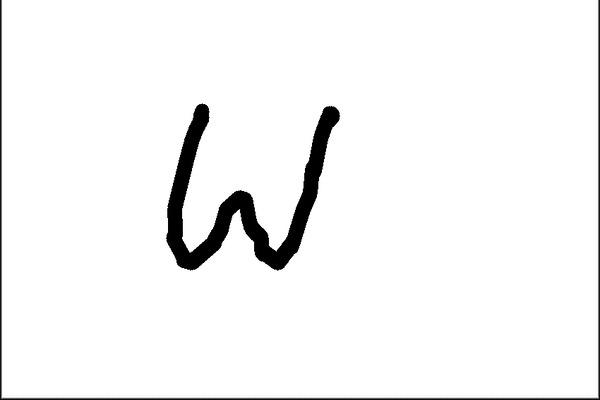w: (145, 82, 351, 305)
